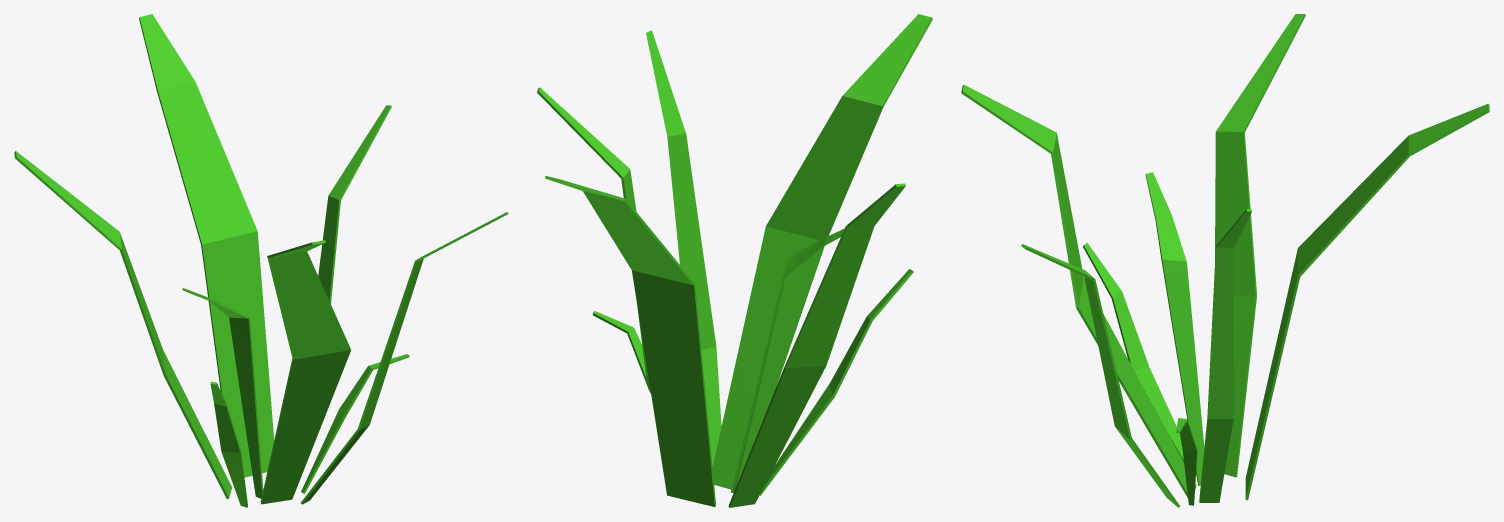
The model's file is grass2.obj.
3 renders of one model, left to right at view 1: azimuth 30°, elevation 25°; view 2: azimuth 150°, elevation 25°; view 3: azimuth 270°, elevation 25°, orthographic. The views are drawn at different scales.
Parts seen in each view (by area): view 1: Grass_2_Plane.001; view 2: Grass_2_Plane.001; view 3: Grass_2_Plane.001.
Part boxes in pixels (x1,y1,x2,y2): Grass_2_Plane.001: [14, 14, 508, 507]; Grass_2_Plane.001: [537, 14, 932, 507]; Grass_2_Plane.001: [961, 14, 1489, 507].
Size of the model in its own units: 0.2547 by 0.2546 by 0.3094.
